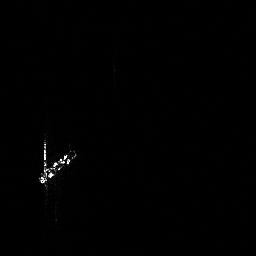ship: (39, 150, 77, 183)
